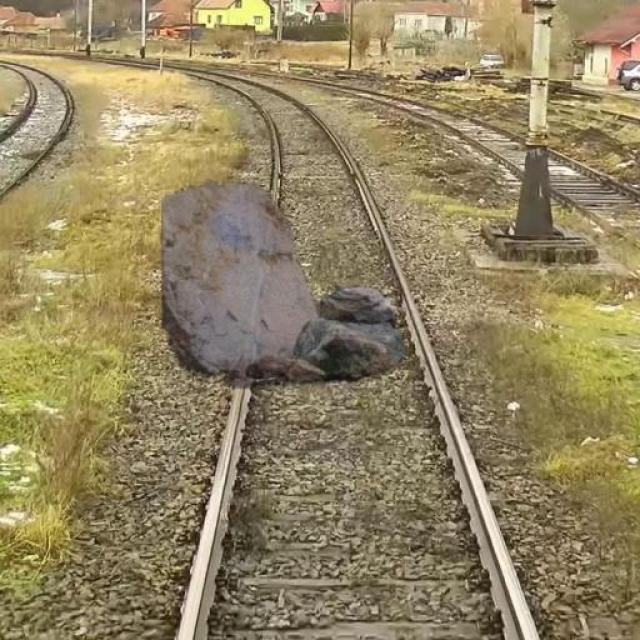Stone: (151, 177, 412, 382)
